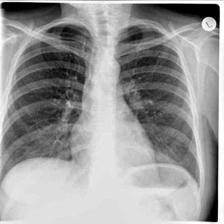tuberculosis: (0, 18, 206, 199)
